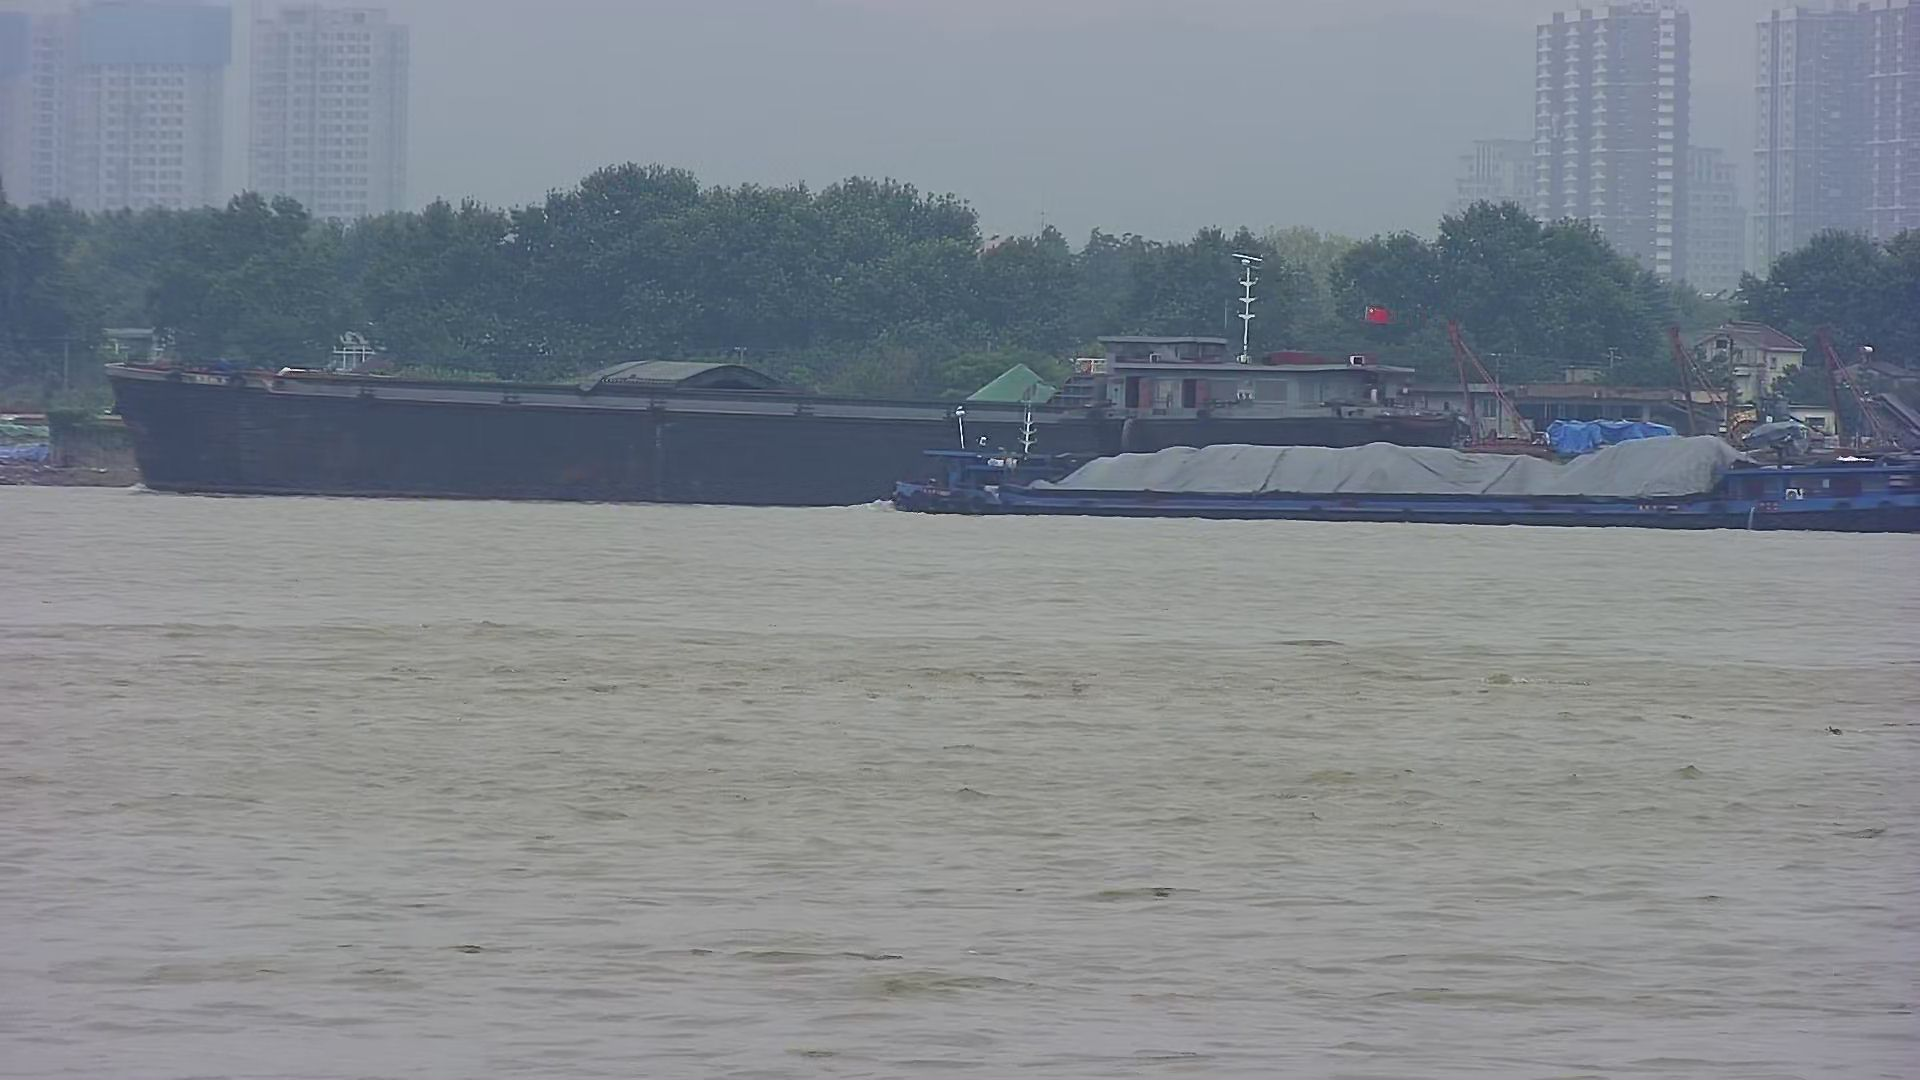ship: (98, 233, 1455, 492), (884, 396, 1920, 530)
